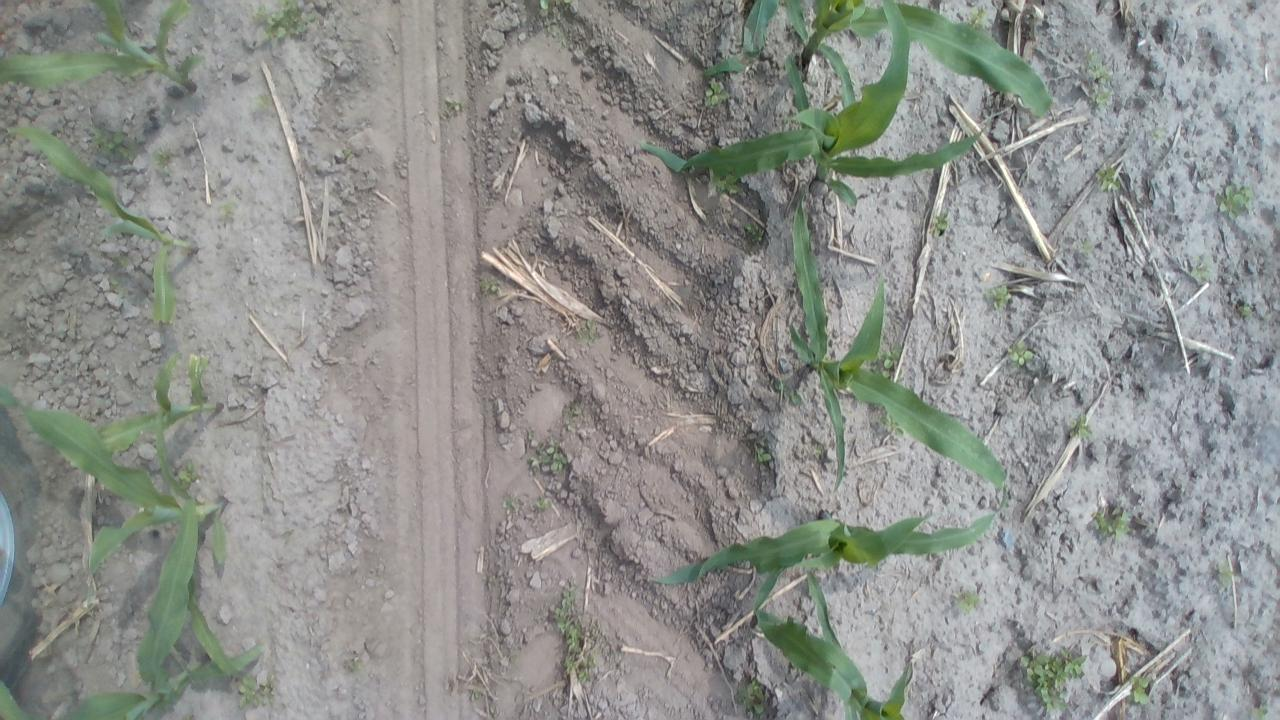Maize: (0, 380, 232, 698), (632, 3, 989, 207), (783, 202, 1011, 496), (1, 118, 202, 329), (661, 503, 1008, 610), (767, 0, 1056, 125), (55, 348, 223, 514), (752, 575, 938, 720), (0, 626, 273, 720), (0, 0, 205, 98)
Weeds: (550, 573, 602, 685), (1014, 647, 1090, 716), (252, 0, 322, 41), (1080, 44, 1120, 112), (528, 0, 578, 41), (90, 123, 139, 164), (525, 435, 571, 478), (732, 677, 772, 720), (1208, 175, 1249, 216), (1090, 505, 1133, 544), (236, 673, 276, 710), (1095, 163, 1128, 201), (1066, 408, 1098, 444), (560, 396, 588, 437), (706, 171, 746, 199), (1004, 335, 1036, 370), (569, 314, 603, 346), (985, 284, 1018, 316), (772, 374, 802, 409), (698, 79, 731, 109), (1125, 674, 1154, 706), (877, 339, 902, 375), (475, 274, 508, 300), (108, 255, 130, 294), (178, 458, 202, 492), (151, 141, 174, 174), (929, 205, 951, 239), (1186, 256, 1212, 284), (958, 587, 984, 615), (436, 94, 464, 118), (750, 436, 774, 464), (1217, 558, 1238, 588), (217, 194, 238, 223), (500, 490, 523, 515), (742, 220, 765, 245), (530, 492, 556, 513), (970, 4, 990, 30), (253, 91, 276, 113), (342, 657, 368, 674), (1074, 236, 1096, 255), (1147, 125, 1166, 144), (1253, 701, 1271, 720), (468, 684, 485, 704), (1236, 302, 1254, 320), (484, 702, 500, 720), (341, 146, 356, 162), (812, 442, 826, 459)
